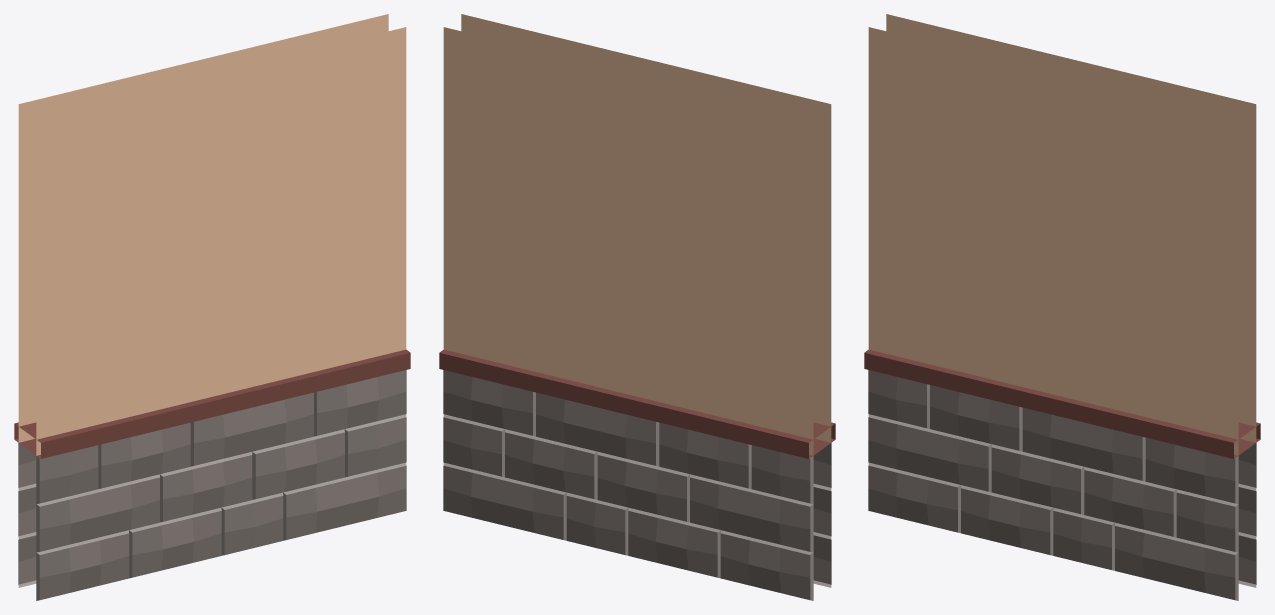
File: Wall_5.fbx
The picture shows the model from 3 angles, left to right: view 1: azimuth 30°, elevation 25°; view 2: azimuth 150°, elevation 25°; view 3: azimuth 330°, elevation 25°; orthographic projection.
Parts seen in each view (by area): view 1: Wall_5; view 2: Wall_5; view 3: Wall_5.
Boxes of the visible parts, box(x1,y1,x2,y2) form: Wall_5: box(14, 14, 410, 600); Wall_5: box(439, 14, 835, 600); Wall_5: box(864, 14, 1260, 600).
Size of the model in its own units: 2.4 by 0.3 by 3.
